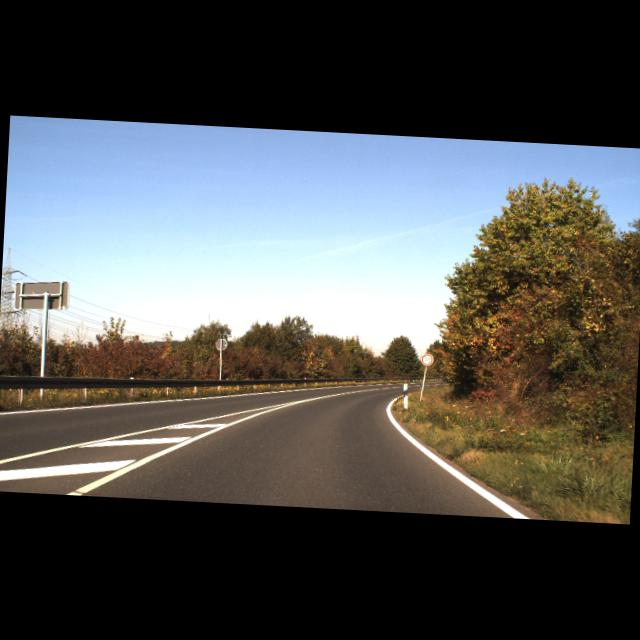prohibitory: (421, 353, 434, 366)
